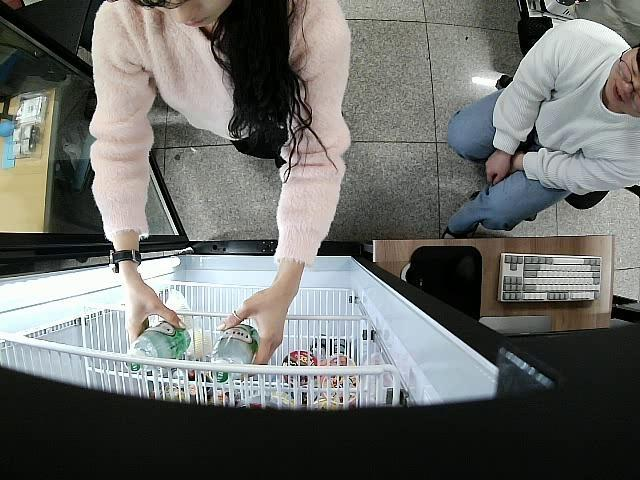18_trevi: (124, 320, 191, 373), (209, 324, 259, 384)
